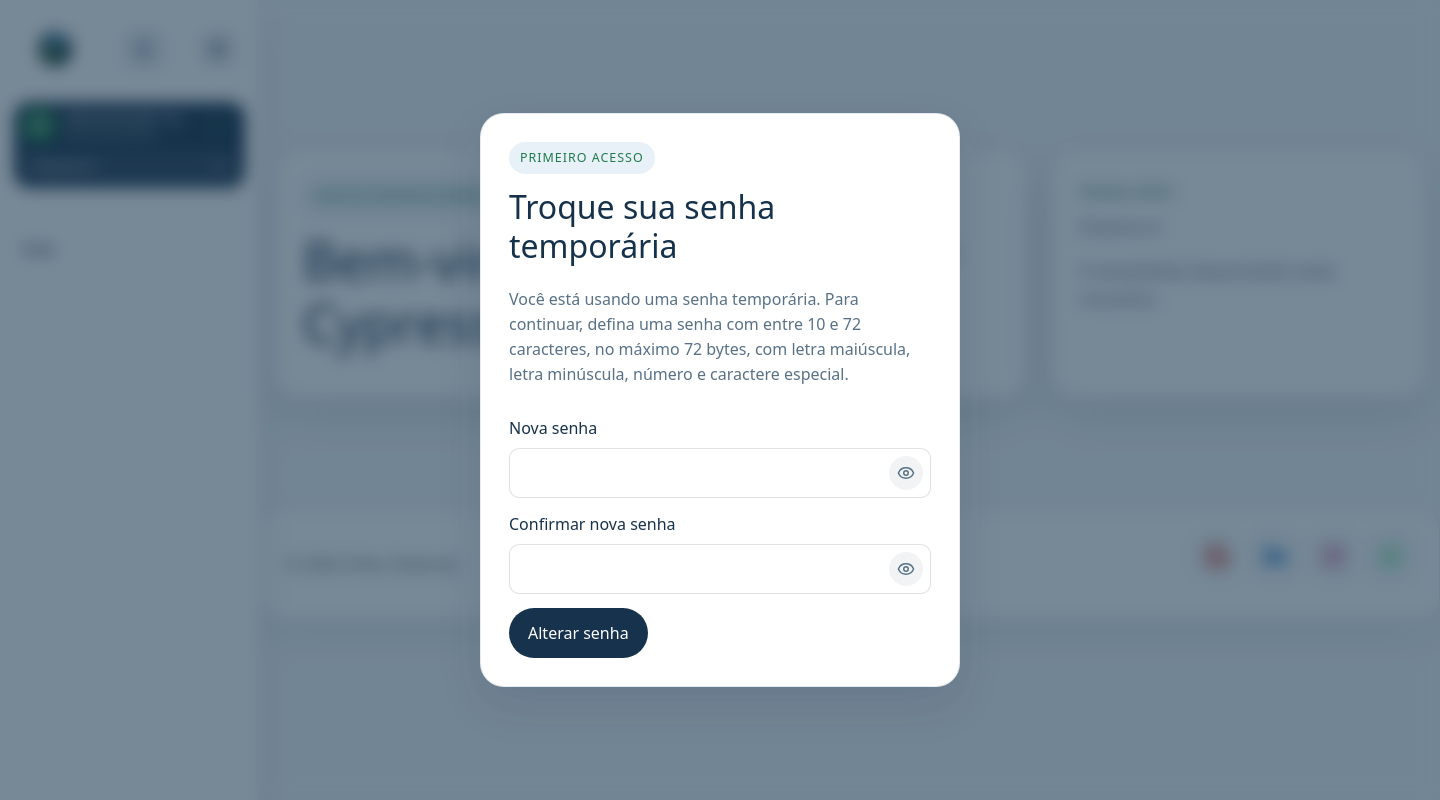
Scenario: autenticação no navegador › exige uma senha forte antes de liberar a sessão temporária
This screenshot has width=1440, height=800.
Expected: the heading "Troque sua senha temporária" is shown, [509,185,775,267]
Expected: the text "entre 10 e 72 caracteres, no máximo 72 bytes" is shown, [509,313,910,385]
In the password field named "password": (720, 473) [509,448,931,498], type "senhafraca"
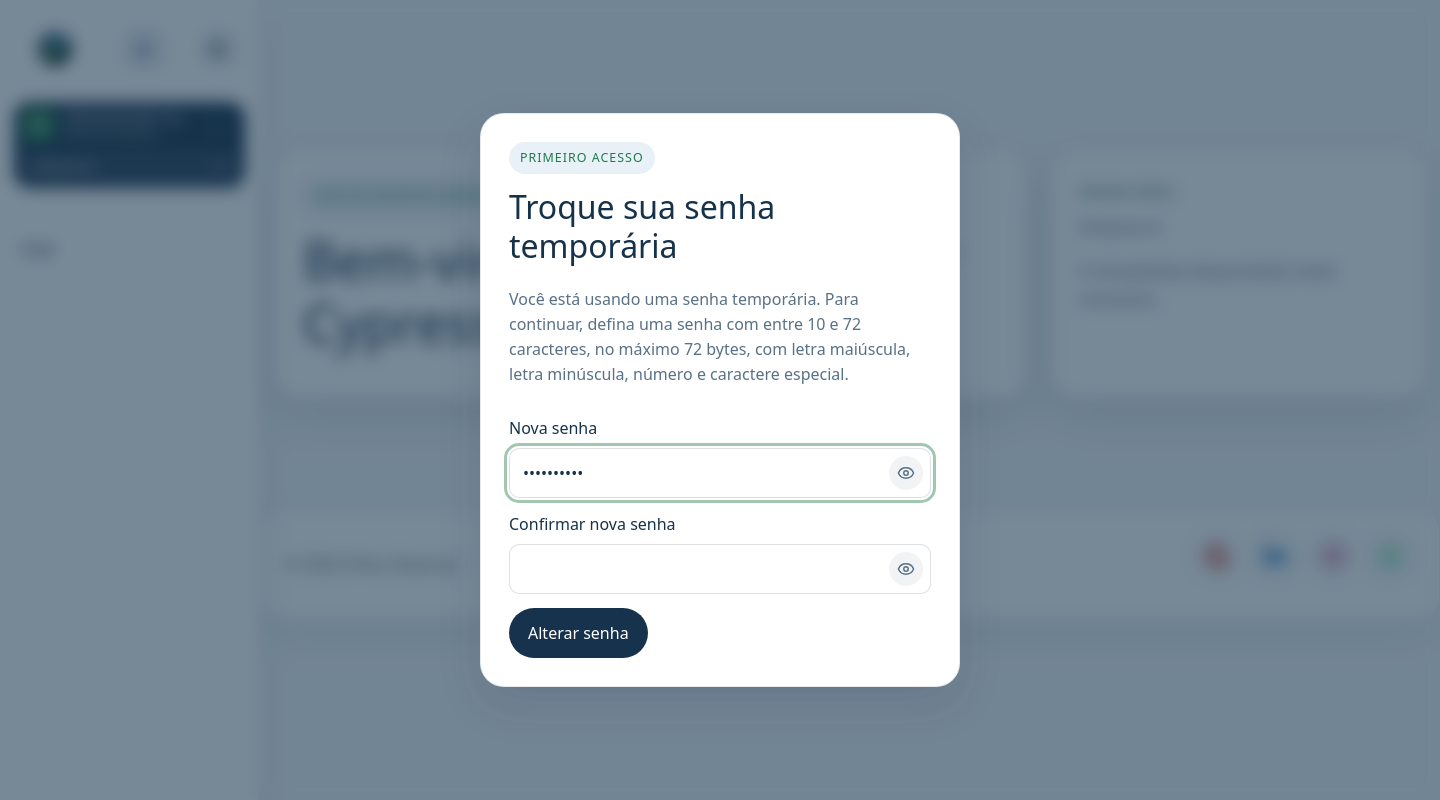
In the password field named "confirmPassword": (720, 569) [509,544,931,594], type "senhafraca"
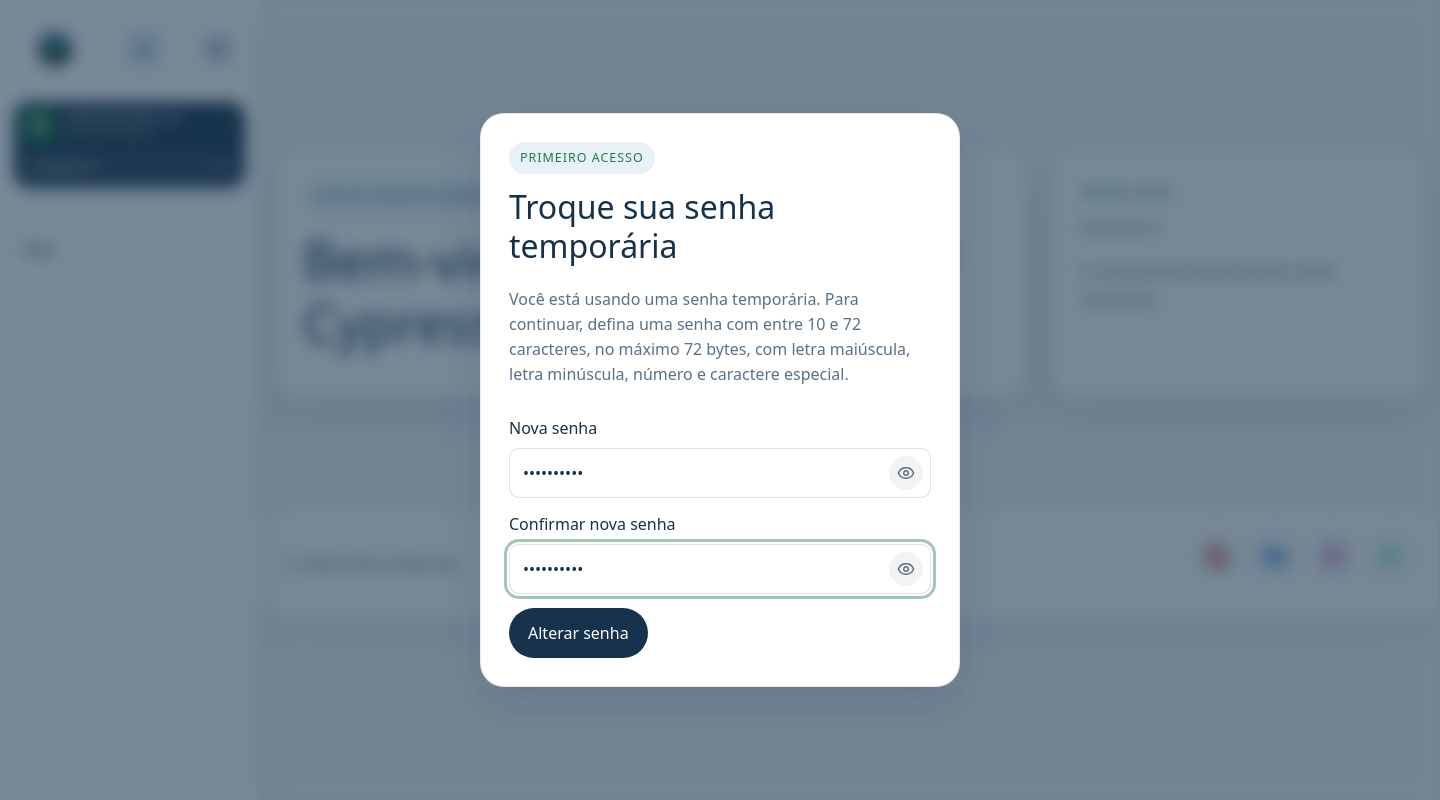
Click the button "Alterar senha": (579, 633) [509,608,648,658]
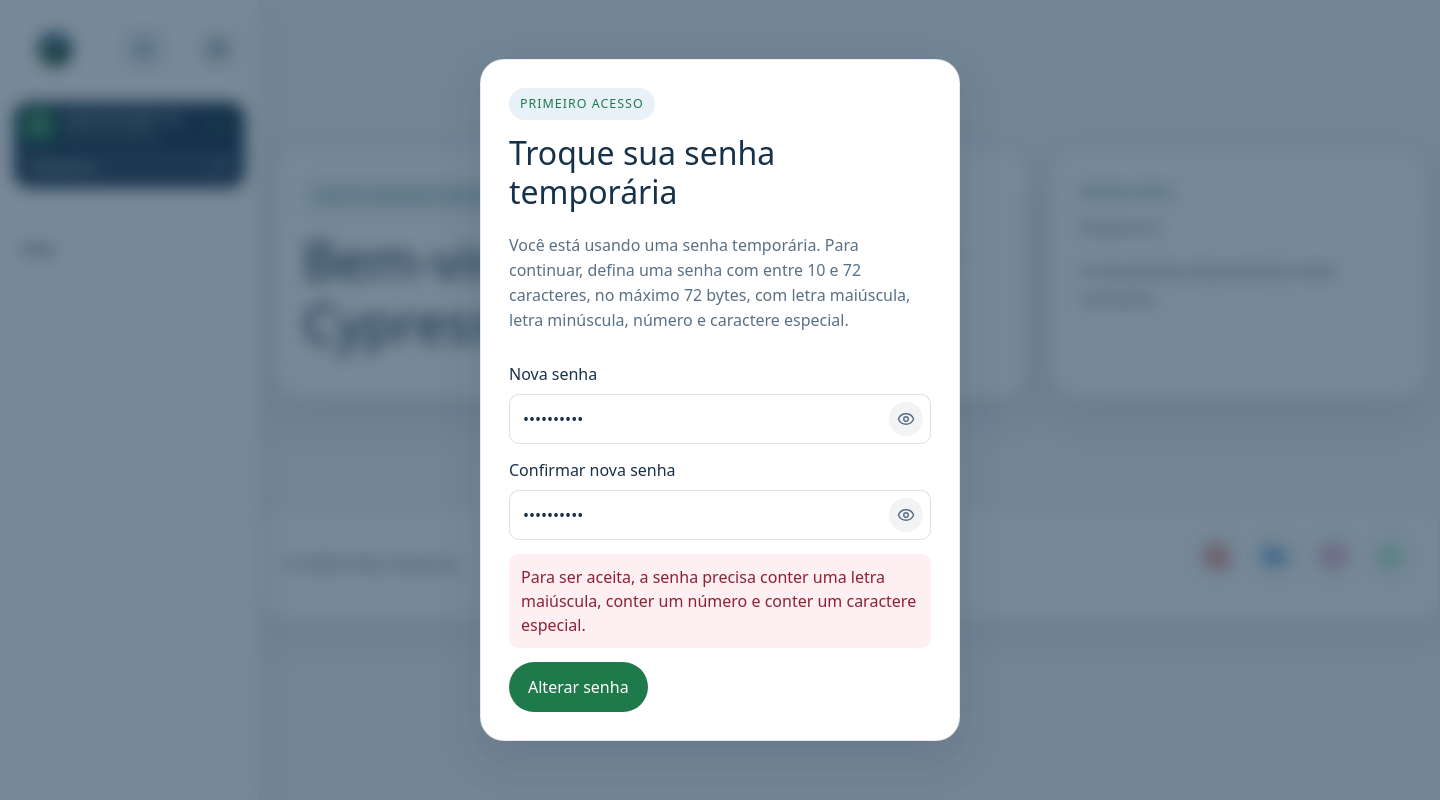
Result: the message shows "uma letra maiúscula" at [509,554,931,648]
Result: the message shows "um número" at [509,554,931,648]
Result: the message shows "um caractere especial" at [509,554,931,648]
In the password field named "password": (720, 419) [509,394,931,444], type "NovaSenha@1"
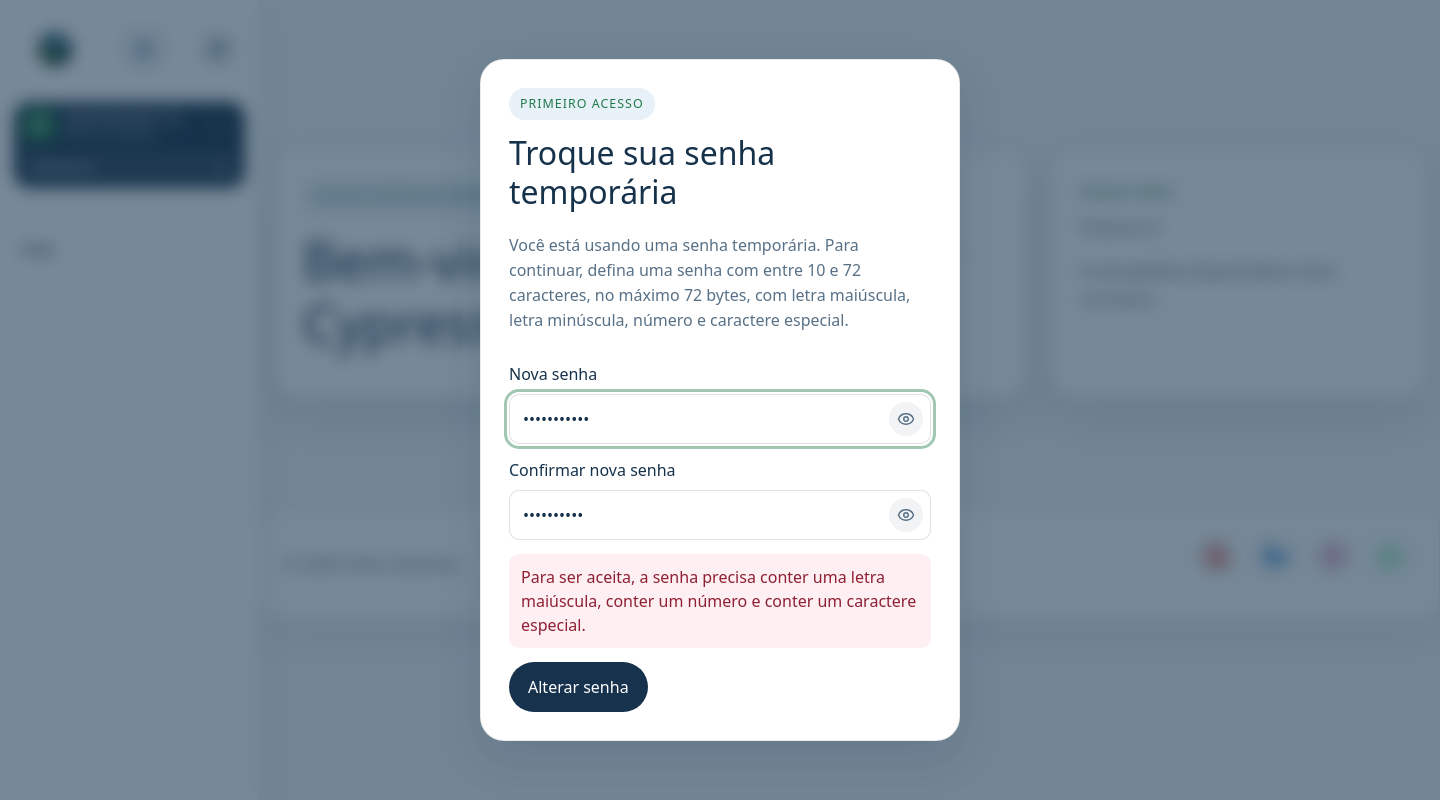
In the password field named "confirmPassword": (720, 515) [509,490,931,540], type "NovaSenha@1"
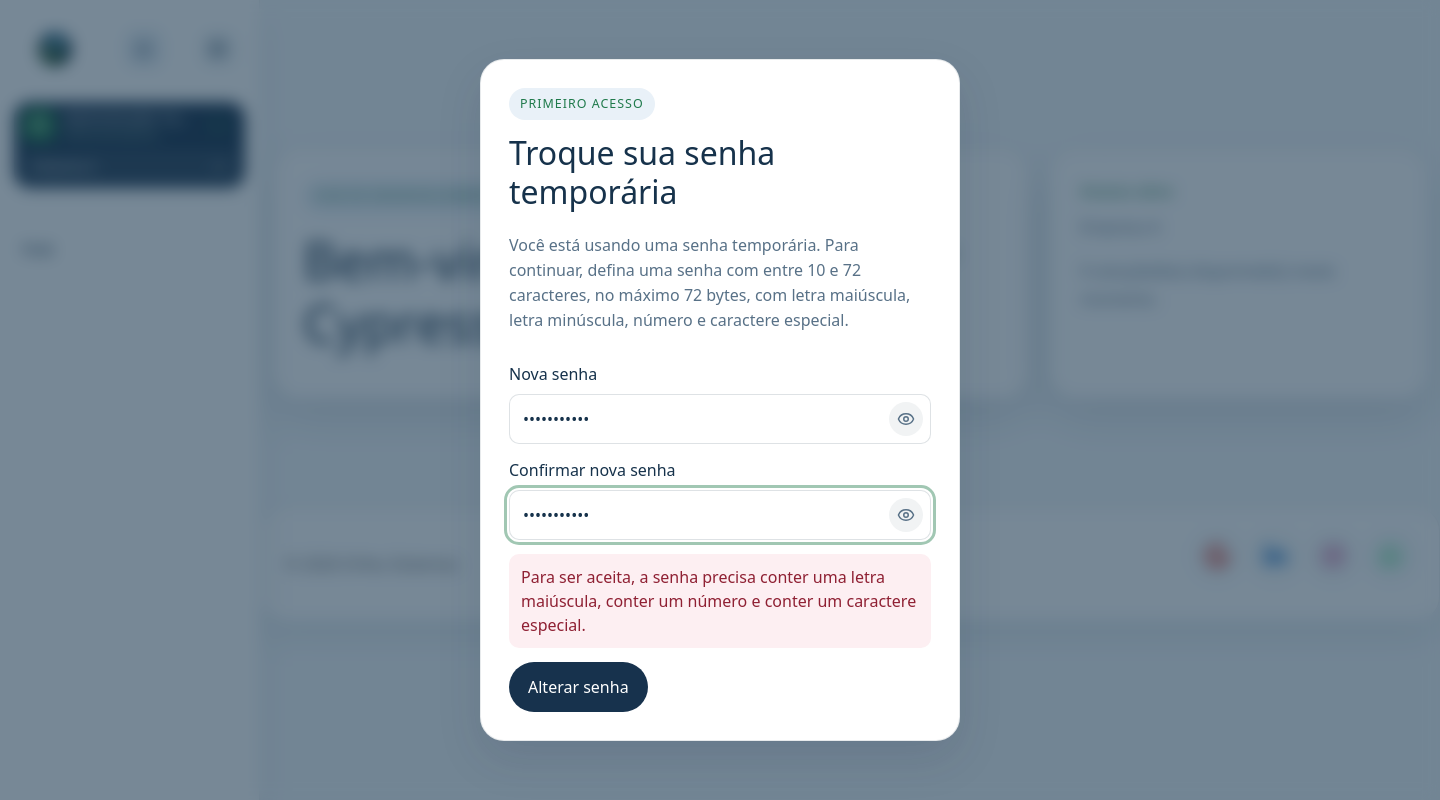
Click the button "Alterar senha": (579, 687) [509,662,648,712]
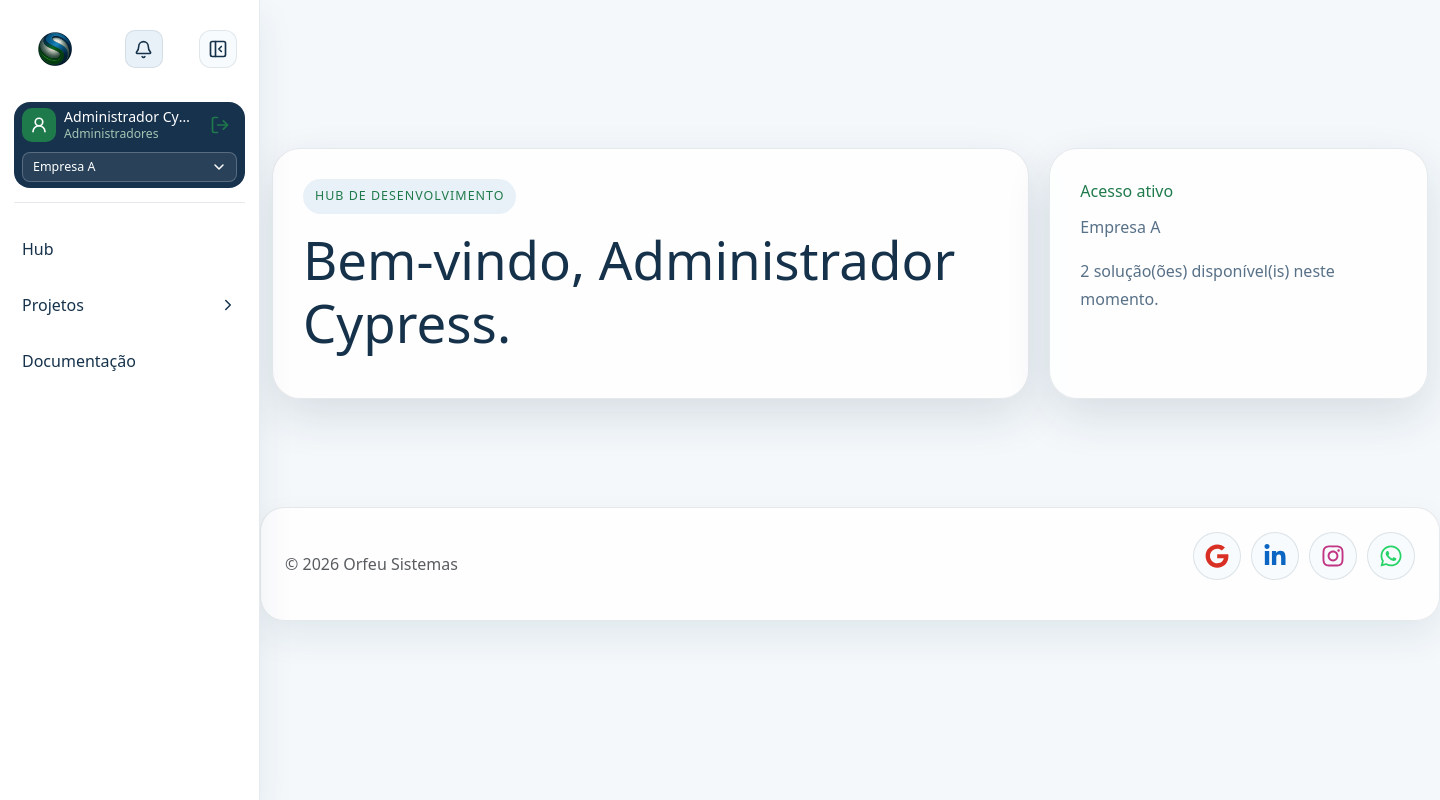
Result: the heading "Troque sua senha temporária" is gone
